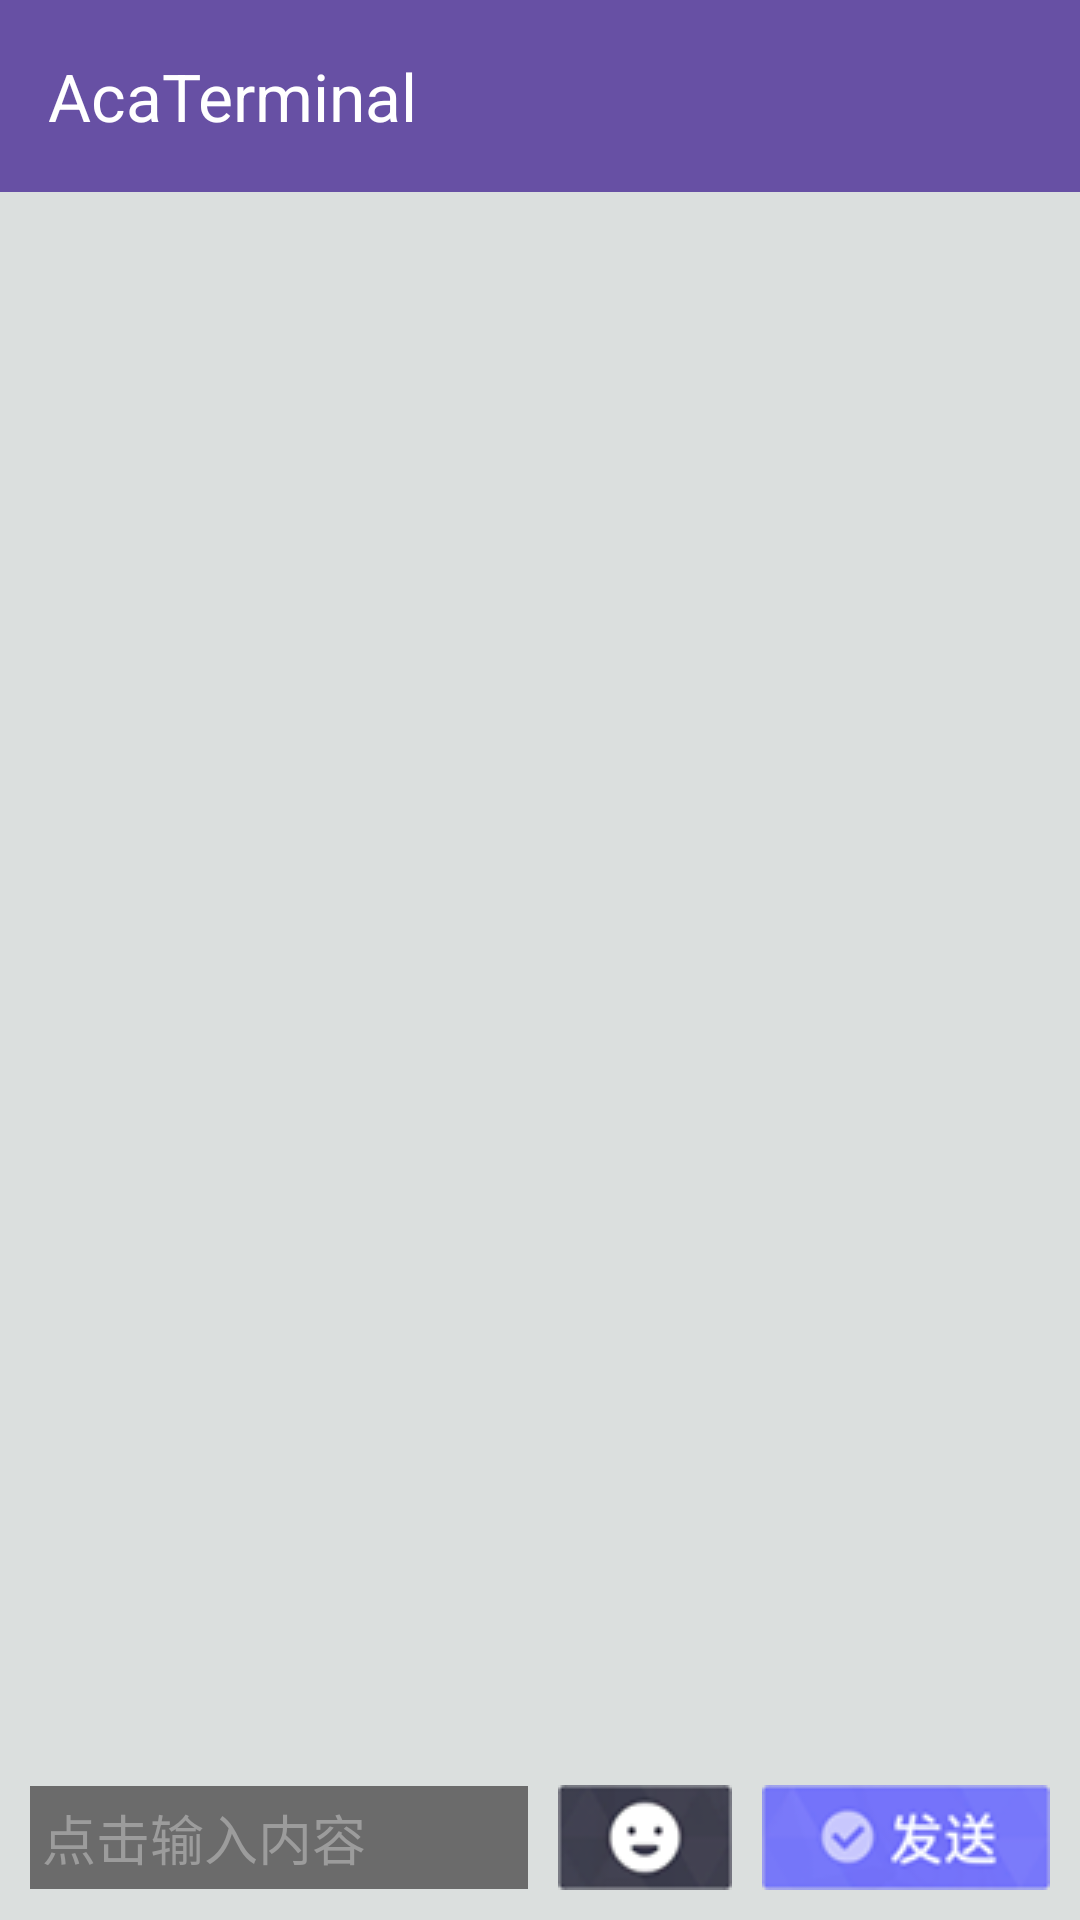

Icon bounding boxes for this 1080x1920 phone screenshot, format (x1, y1, x2, y2):
emoji: (558, 1785, 732, 1890)
